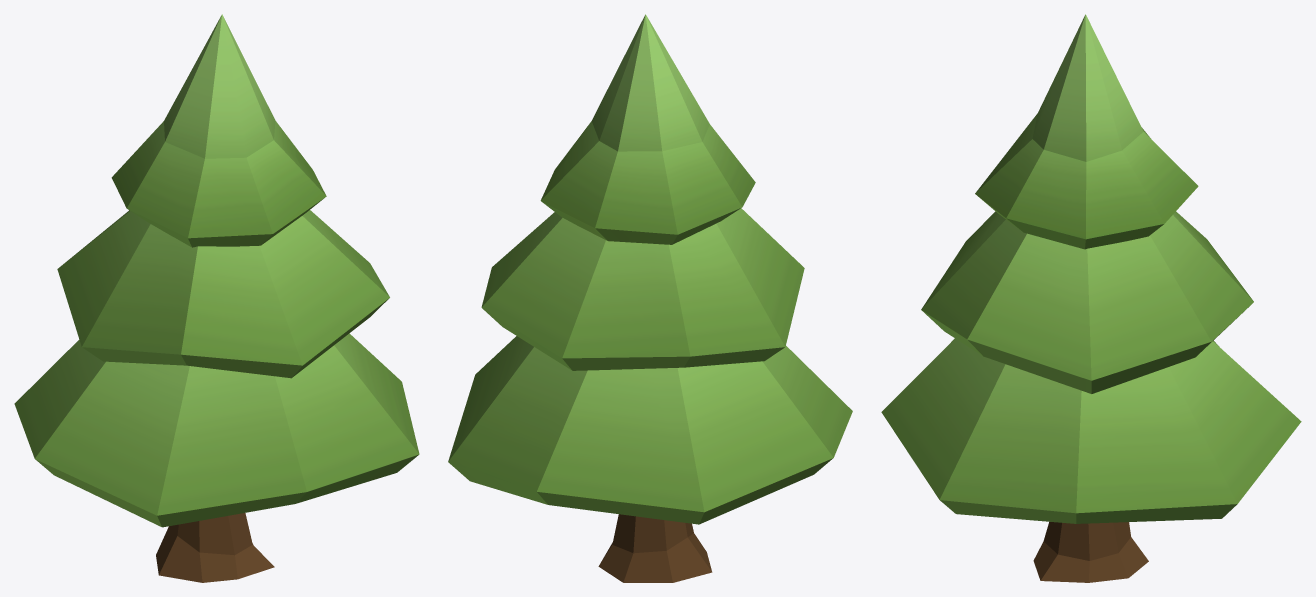
File: pack01_foliage_09.fbx
3 views of the same model, side by side, from view 1: azimuth 30°, elevation 25°; view 2: azimuth 150°, elevation 25°; view 3: azimuth 270°, elevation 25° (orthographic).
Parts seen in each view (by area): view 1: Tree_Spruce_tiny_02; view 2: Tree_Spruce_tiny_02; view 3: Tree_Spruce_tiny_02.
Boxes of the visible parts, x1=… form: Tree_Spruce_tiny_02: x1=14, y1=14, x2=419, y2=582; Tree_Spruce_tiny_02: x1=448, y1=14, x2=852, y2=582; Tree_Spruce_tiny_02: x1=881, y1=14, x2=1301, y2=582.
Bounding box in the file's own units: 767 × 1098 × 758.
Materials: 1 (1 with a texture image).
